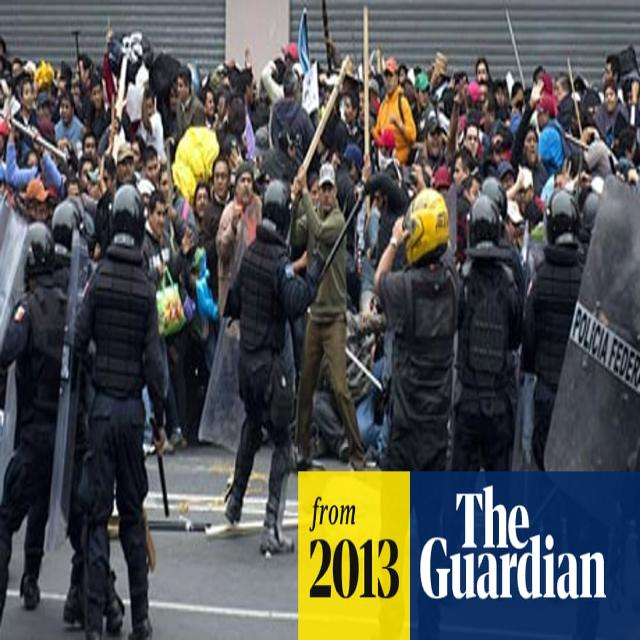police: (66, 183, 167, 640), (208, 174, 316, 571), (4, 207, 86, 640), (452, 172, 522, 488), (527, 168, 593, 452)
